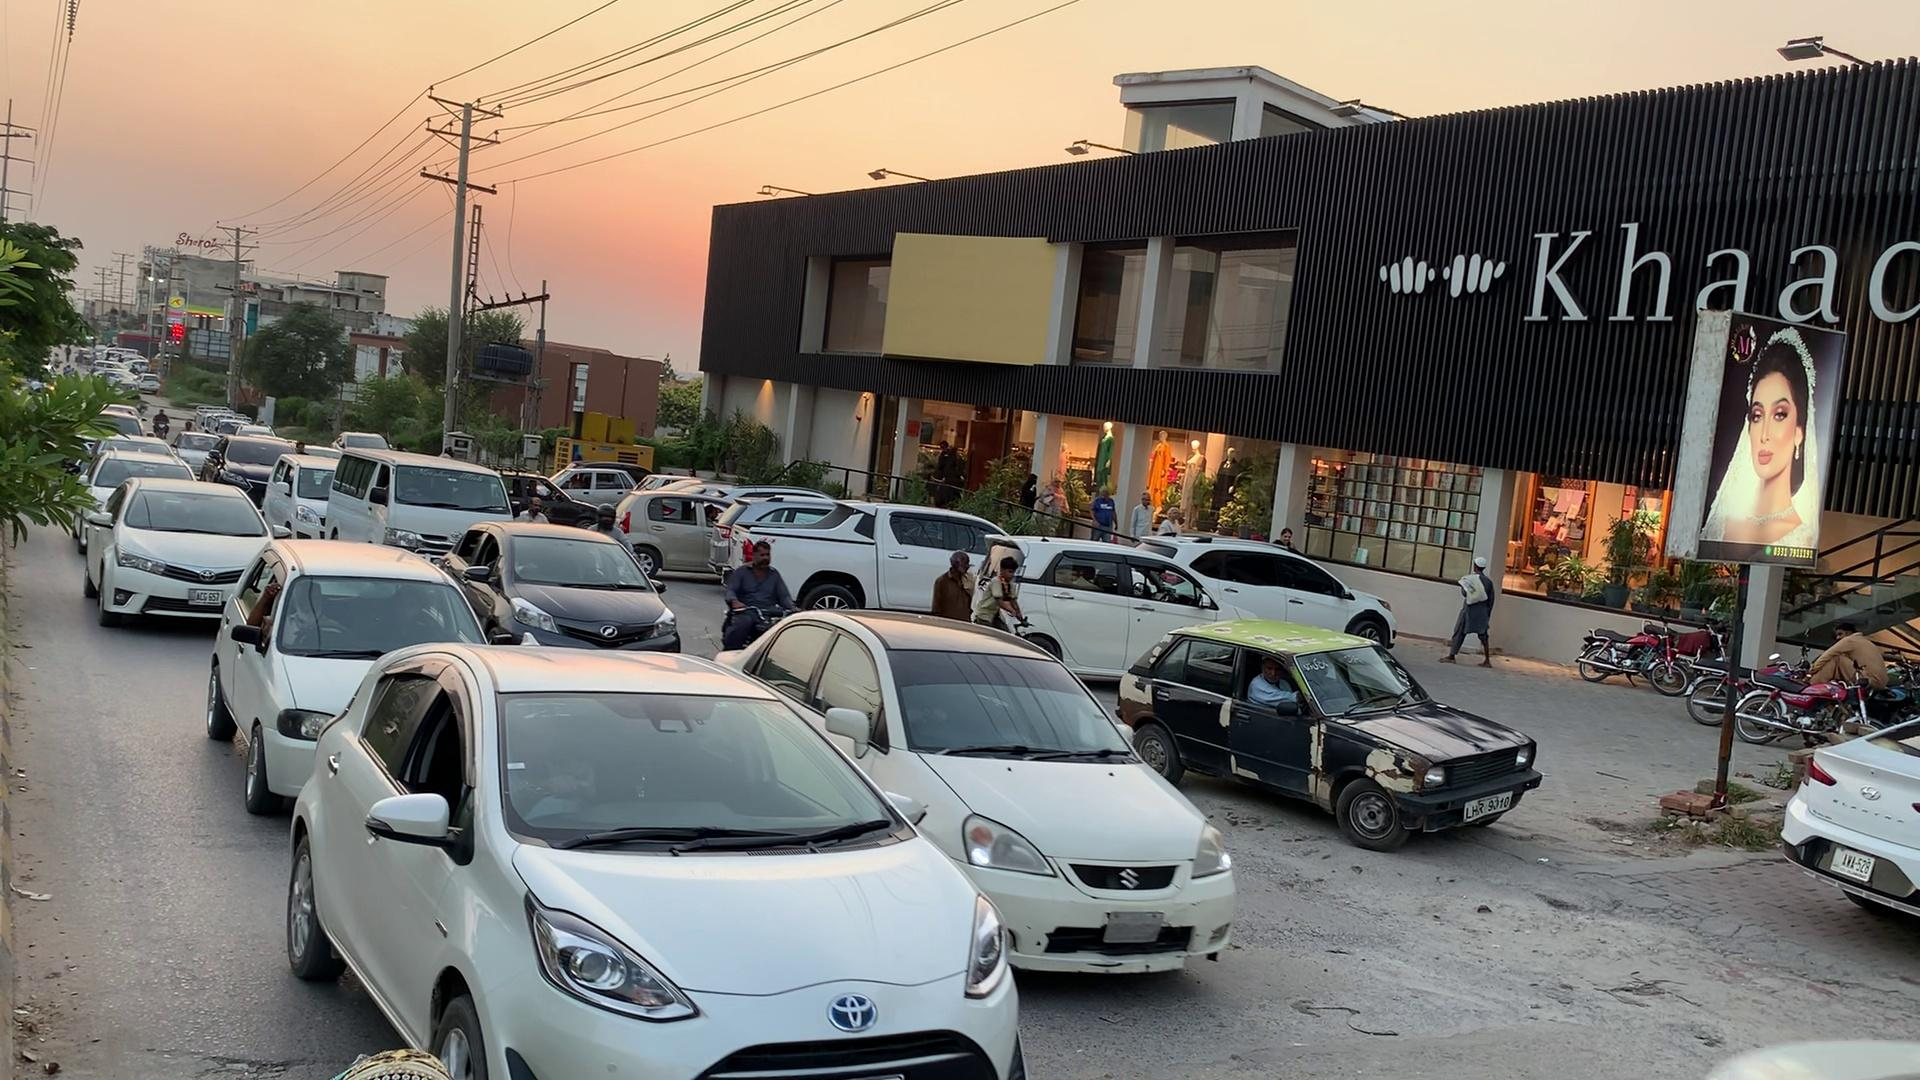windshield: (484, 674, 931, 877), (881, 630, 1158, 777)
